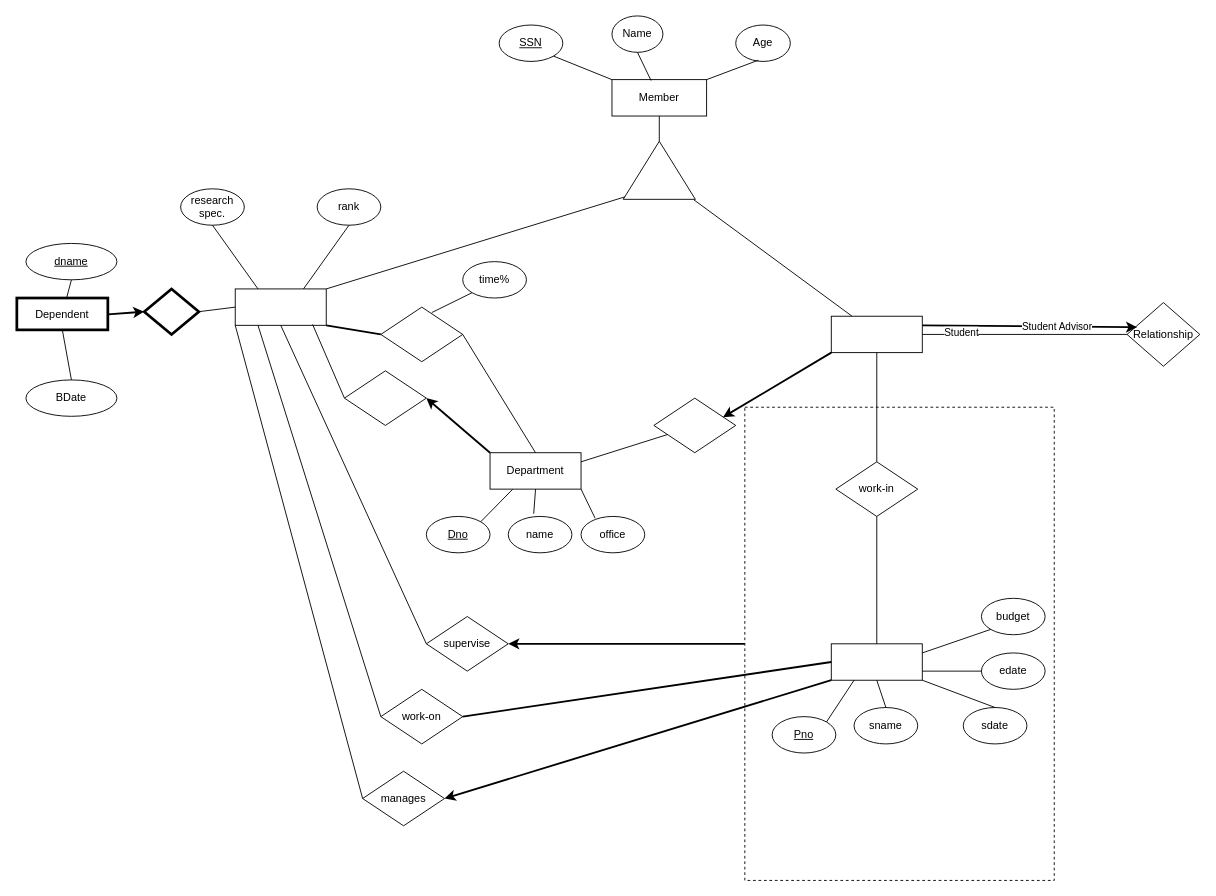
Image size: 1216x896. Some labels were removed from this diagram. The centre of each missing label's shape, as x and y in pixels:
"chair" goes at pixel 385 397.
"Grad" goes at pixel 876 334.
"IS_A" goes at pixel 658 169.
"major" goes at pixel 694 425.
"policy" goes at pixel 171 311.
"Professor" goes at pixel 280 306.
"Project" goes at pixel 876 661.
"work-for" goes at pixel 421 334.
